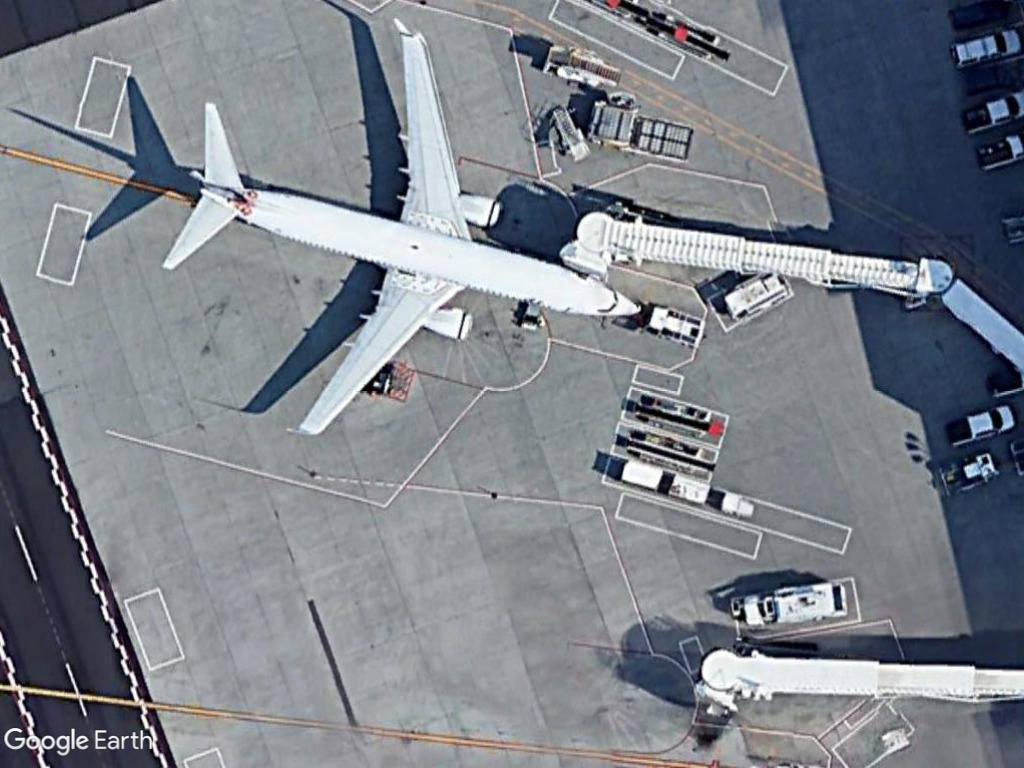airliner: (161, 14, 642, 446)
stairtruck: (538, 99, 600, 166)
